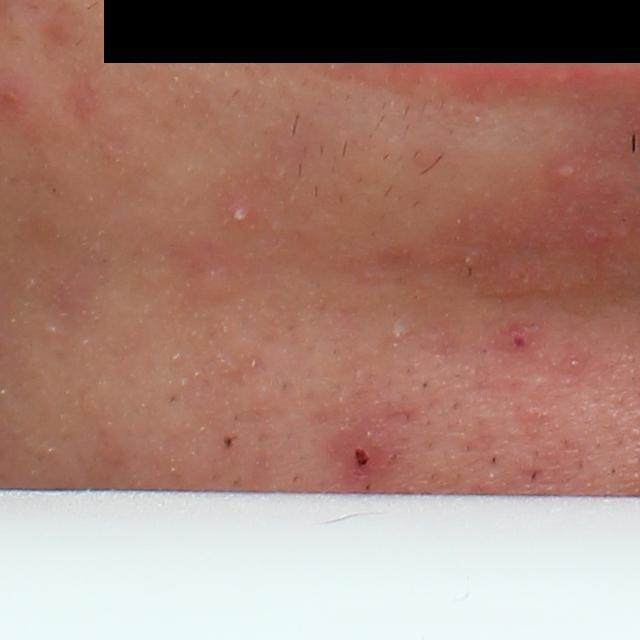papule: (338, 436, 389, 485), (500, 322, 534, 349)
pustule: (225, 197, 253, 227), (551, 158, 579, 184)
